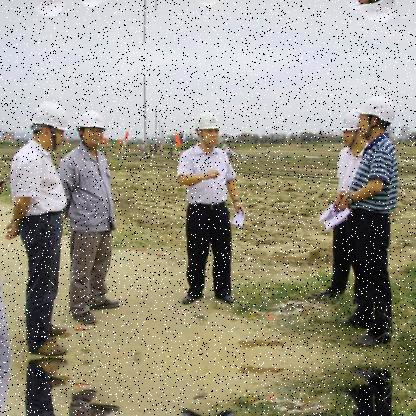Helmet: (23, 89, 76, 153), (358, 95, 398, 139), (336, 109, 372, 151), (350, 0, 400, 28), (76, 108, 108, 149), (192, 106, 222, 149), (27, 0, 74, 21)
